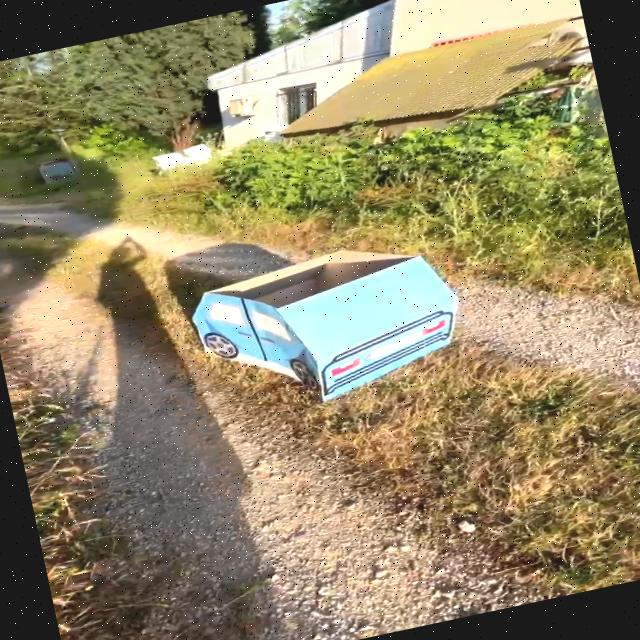blue_car: (109, 196, 536, 461)
